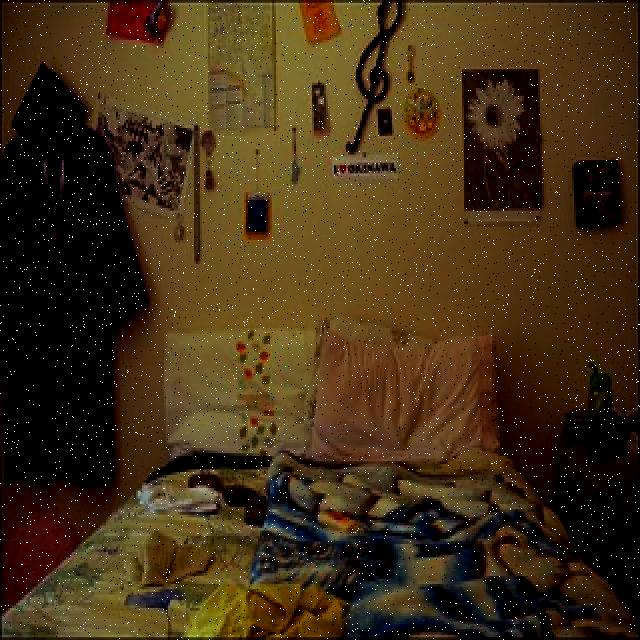bed: (62, 322, 568, 630)
